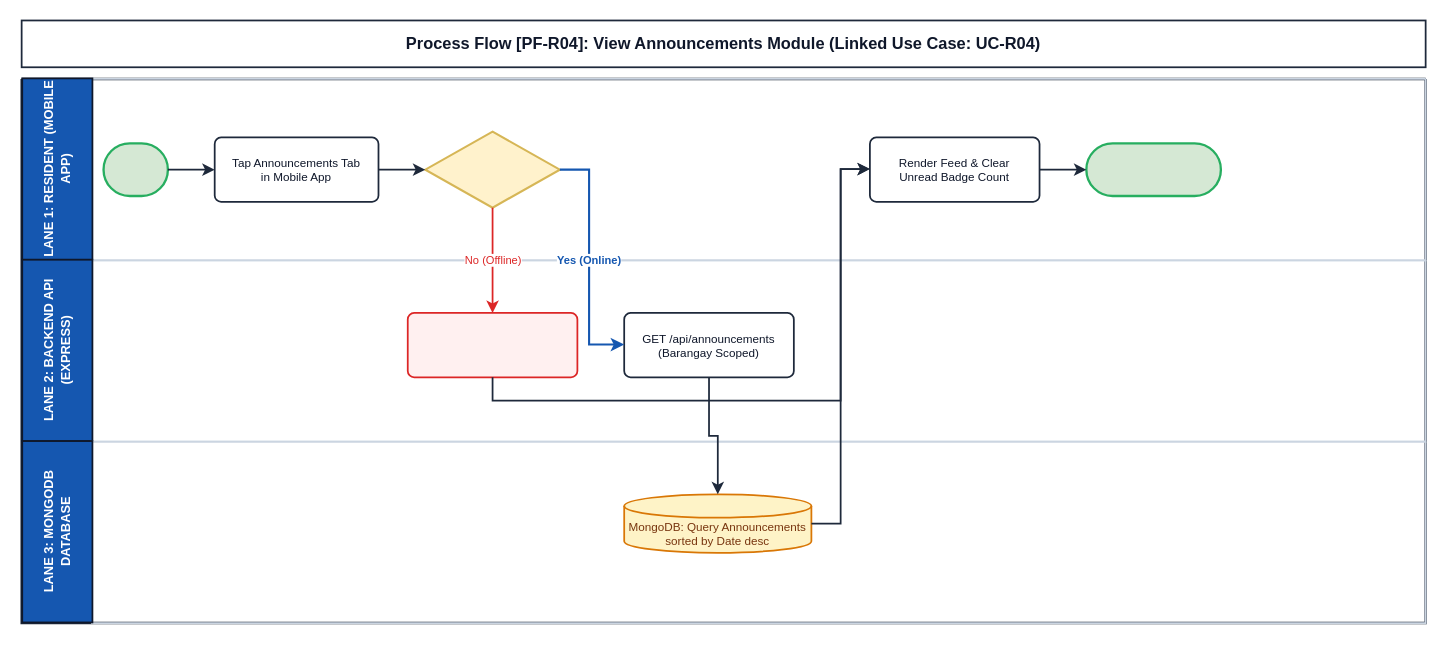
This 1446x645 diagram has some shape labels left out. Here are the shapes that lost their labels. From the top down, the centre of each, then its label:
At point (135, 169): "START".
At point (492, 169): "Device Online?".
At point (1153, 169): "END (Bulletin Read)".
At point (492, 345): "Load Cached Bulletins from AsyncStorage".
